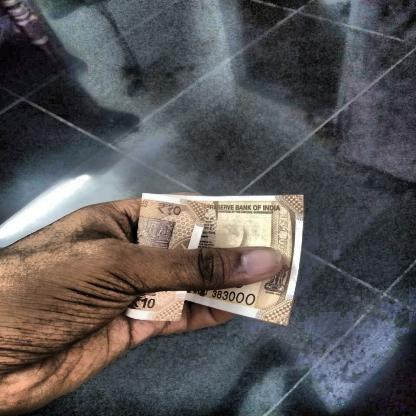Rs10: (129, 295, 162, 313)
